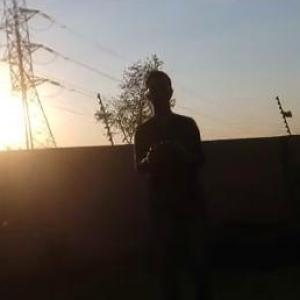follow: (129, 63, 234, 299)
